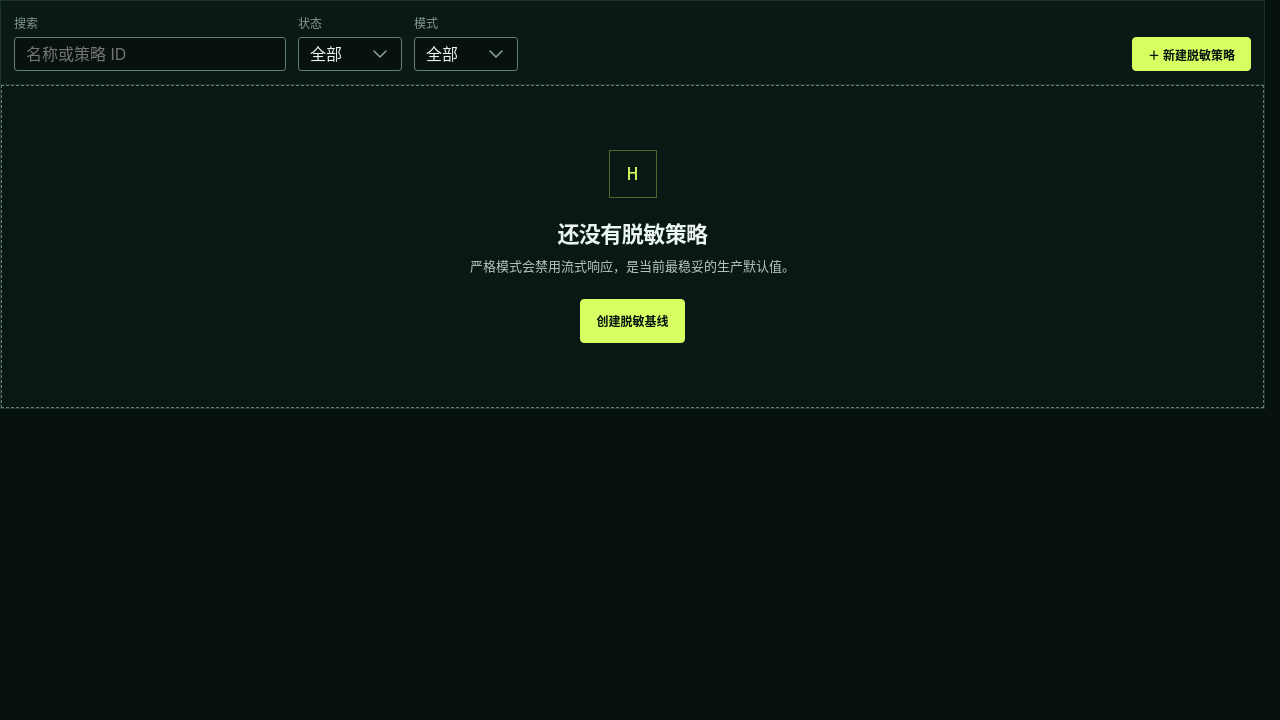
RedactionPoliciesSection form safety › adds and manages many rules through a single selected editor
Click the button "＋ 新建脱敏策略" at [1192, 54], box left=1132, top=37, right=1251, bottom=71
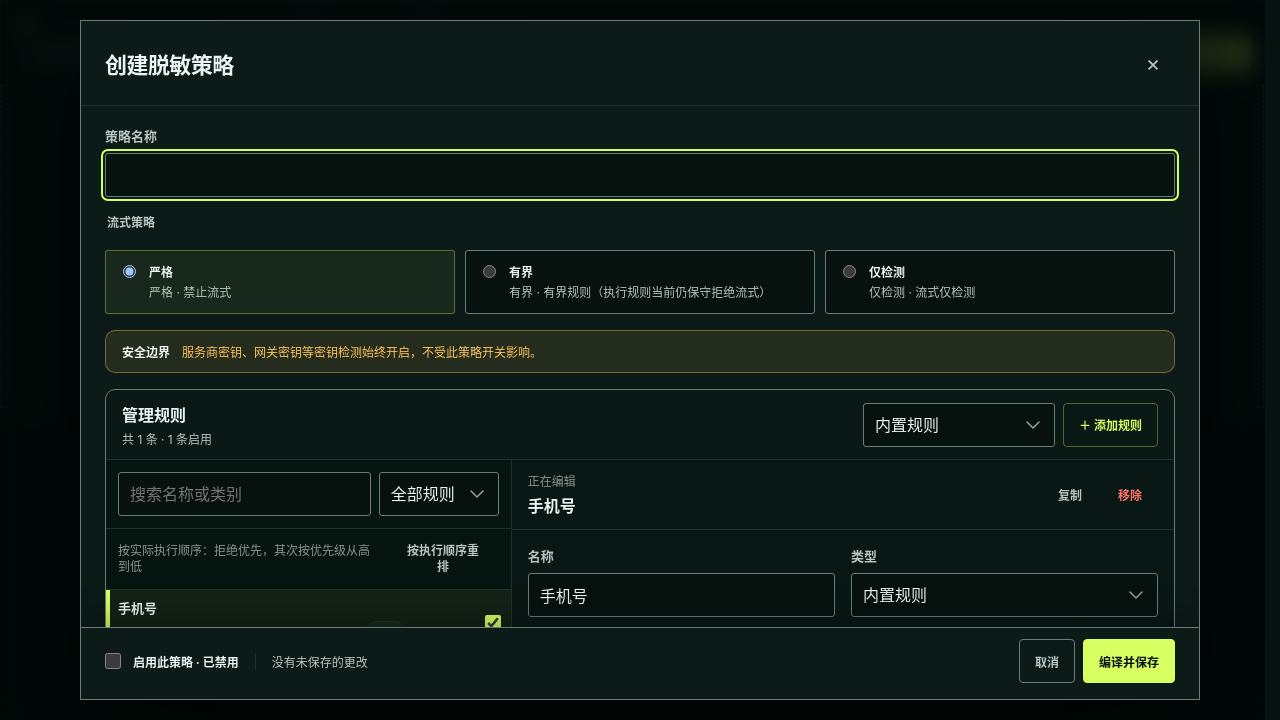
Select "RE2 正则" in the dropdown named "新规则类型" at [959, 425], box left=863, top=403, right=1055, bottom=447
Click the button "＋ 添加规则" at [1110, 425], box left=1063, top=403, right=1158, bottom=447
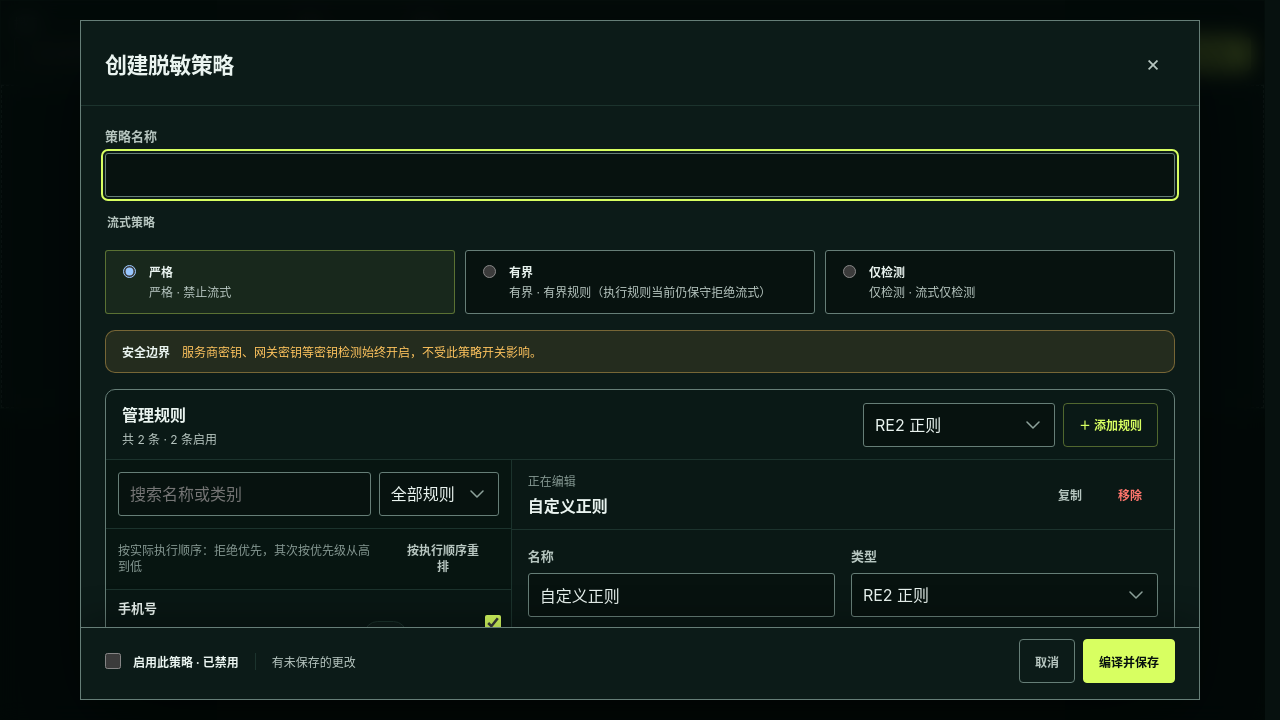
Select "字典" in the dropdown named "新规则类型" at [959, 425], box left=863, top=403, right=1055, bottom=447
Click the button "＋ 添加规则" at [1110, 425], box left=1063, top=403, right=1158, bottom=447
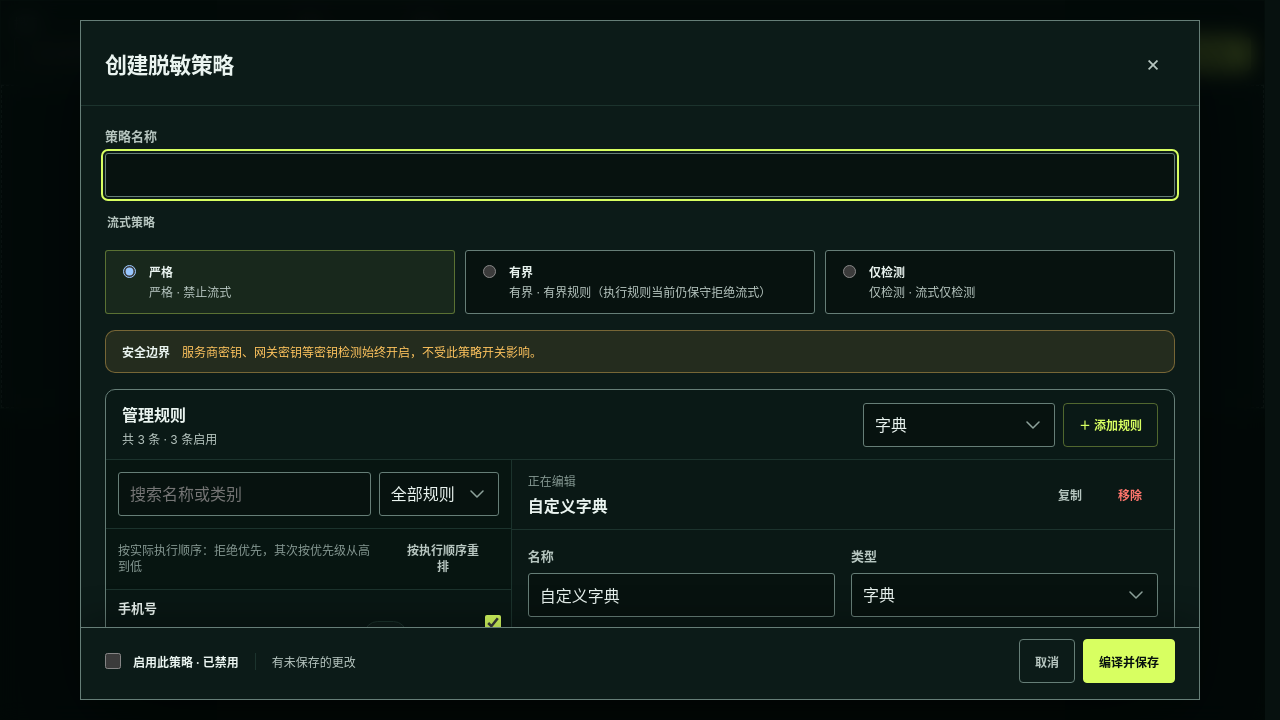
Expected: the number of fields labelled "名称" is 1, left=528, top=573, right=835, bottom=617
Expected: the text "共 3 条 · 3 条启用" is shown, left=122, top=430, right=217, bottom=447
Expected: the field labelled "名称" holds "自定义字典", left=528, top=573, right=835, bottom=617
Click the button "复制" at [1070, 495], box left=1042, top=473, right=1098, bottom=517
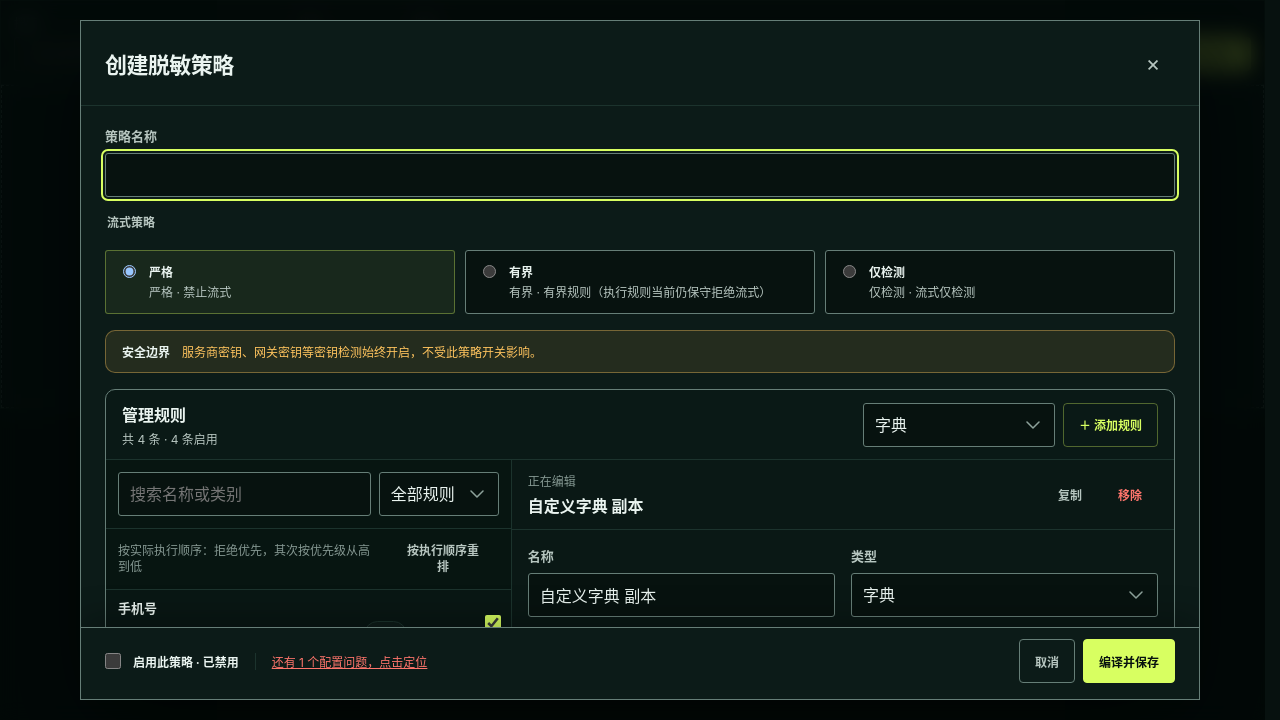
Expected: the text "共 4 条 · 4 条启用" is shown, left=122, top=430, right=218, bottom=447
Expected: the field labelled "名称" holds "自定义字典 副本", left=528, top=573, right=835, bottom=617
Click the button "移除" at [1130, 495], box left=1102, top=473, right=1158, bottom=517
(page scrolled)
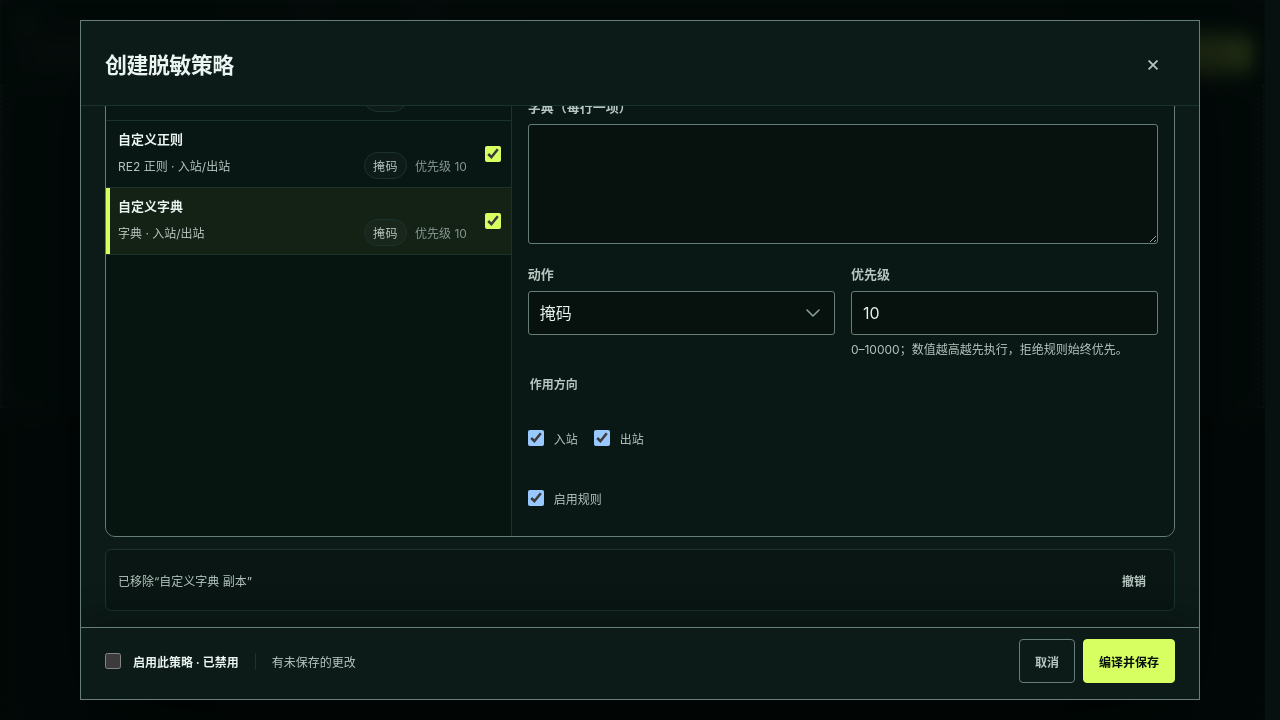
Expected: the text "已移除“自定义字典 副本”" is shown, left=118, top=572, right=252, bottom=589
Click the button "撤销" at [1134, 580], box left=1106, top=558, right=1162, bottom=602
(page scrolled)
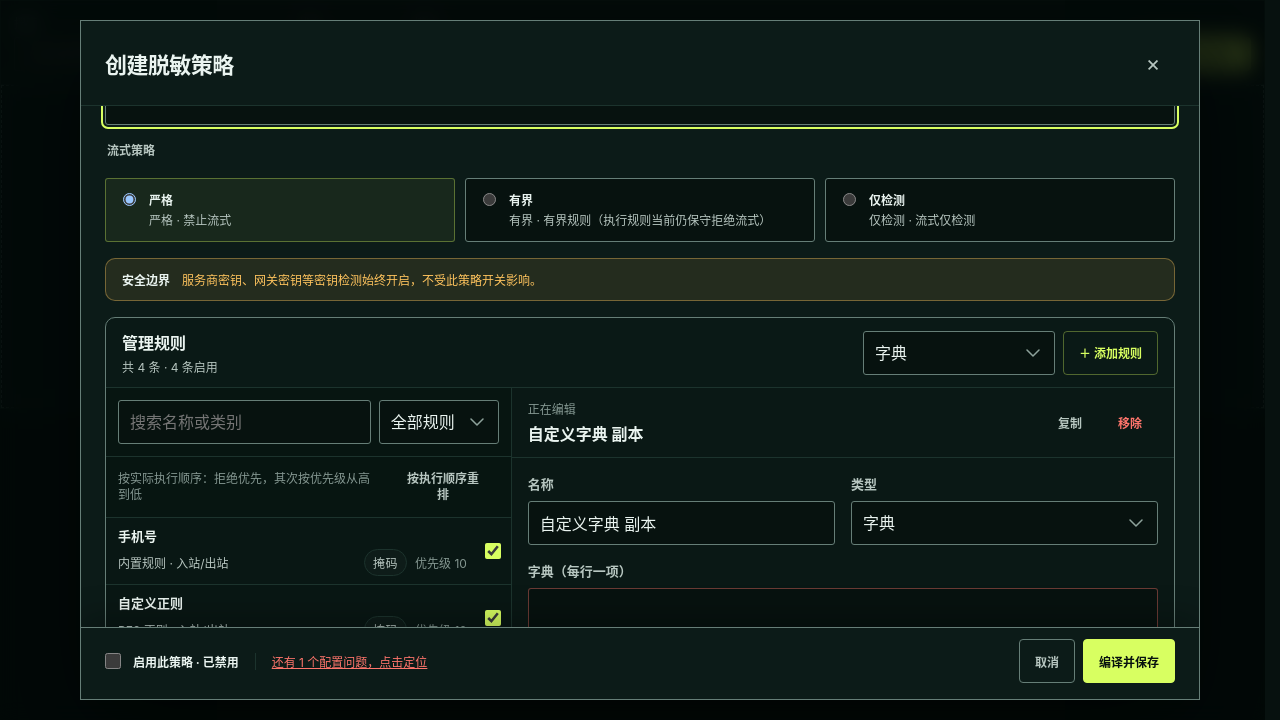
Expected: the text "共 4 条 · 4 条启用" is shown, left=122, top=358, right=218, bottom=375
